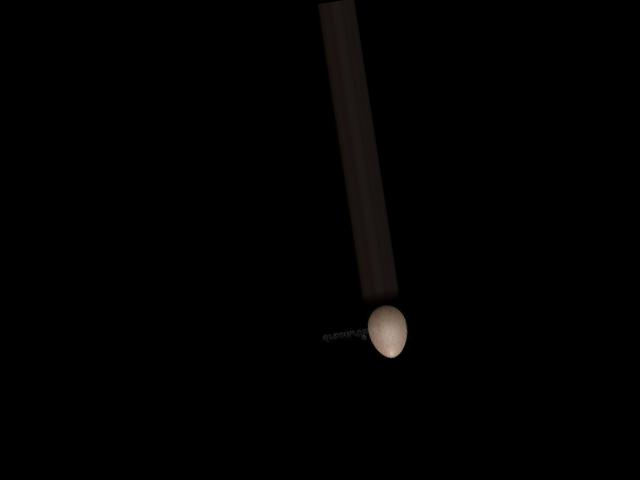egg: (365, 302, 411, 360)
